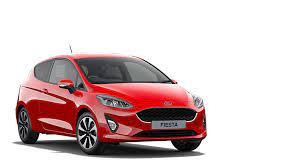Ford: (15, 52, 207, 155)
